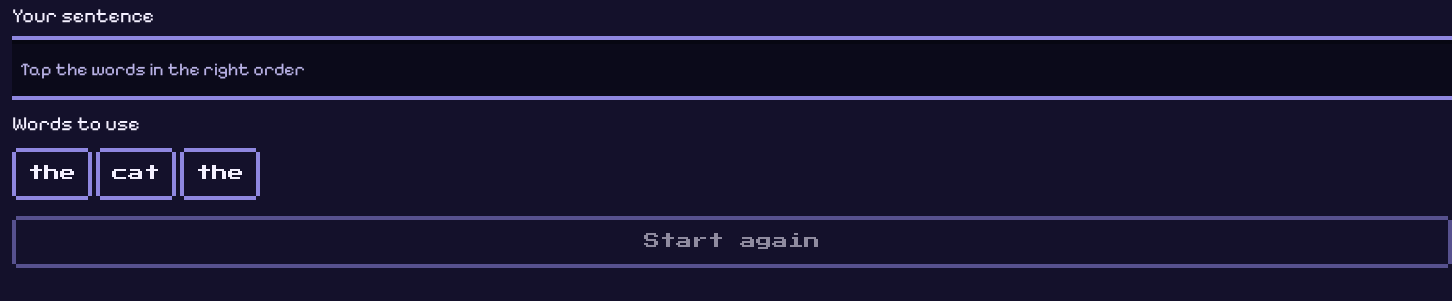
Test: ReorderActivity › copes with the same word twice because tokens are told apart by position
This screenshot has width=1452, height=301.
Click the button with aria-label "Add: the" at coordinates (52, 174), box [16,152,88,196]
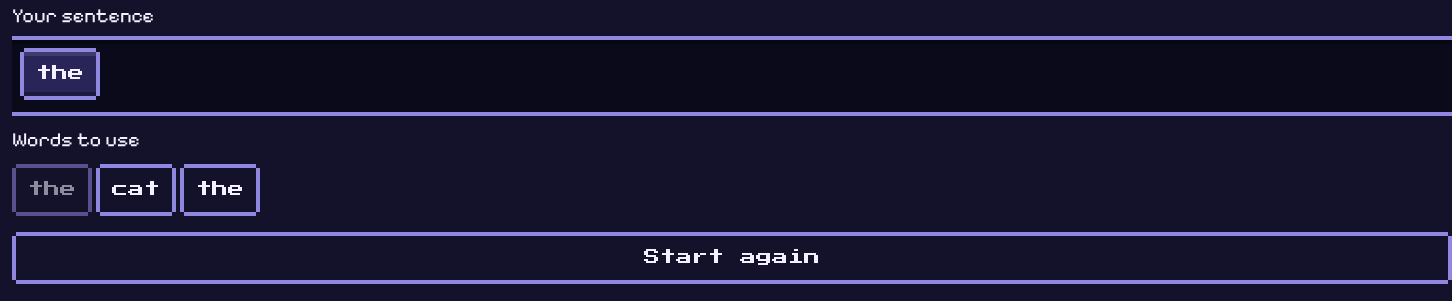
Check: the button with aria-label "Add: the" is enabled, box [184,168,256,212]
Check: the button with aria-label "Add: the" is disabled, box [16,168,88,212]
